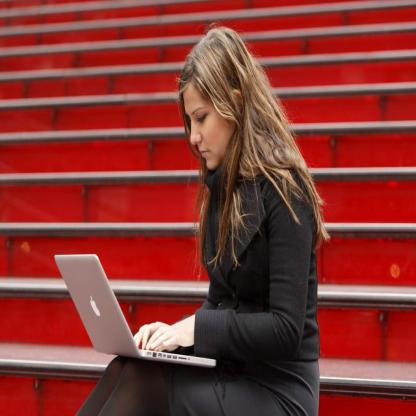board: (32, 251, 209, 392)
